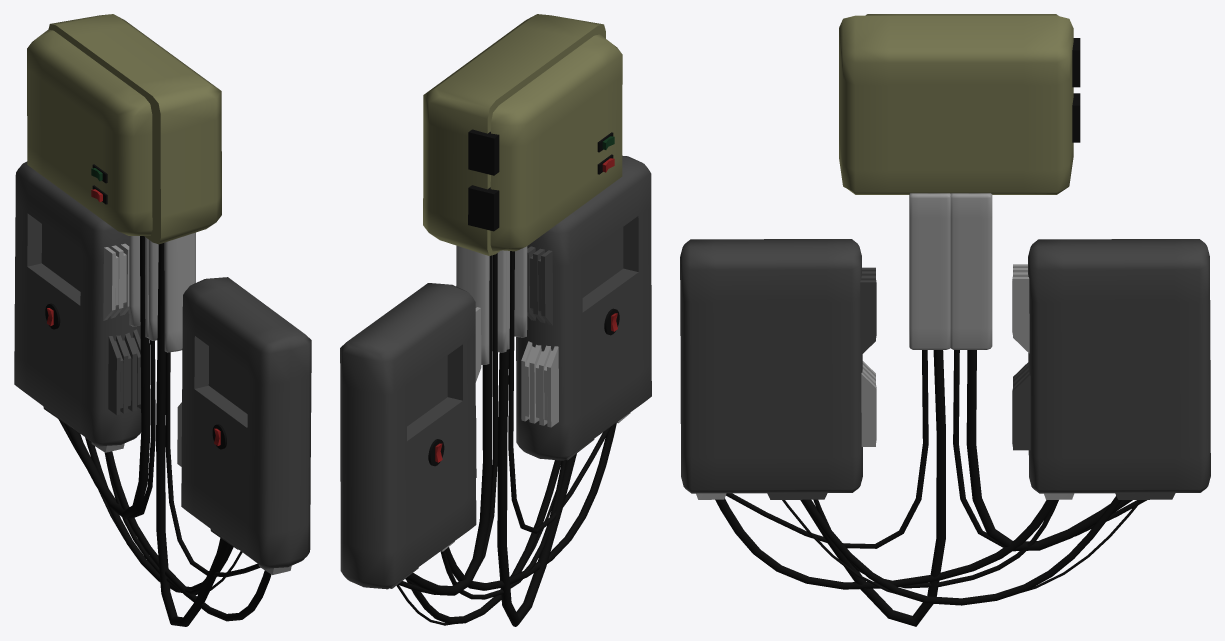
The model's file is stage 3 simulation.FBX.
3 views of the same model, side by side, from view 1: azimuth 30°, elevation 25°; view 2: azimuth 150°, elevation 25°; view 3: azimuth 270°, elevation 25° (orthographic). The views are drawn at different scales.
Visible parts, largest first — view 1: Box002; view 2: Box002; view 3: Box002.
Boxes of the visible parts, box(x1,y1,x2,y2) form: Box002: box(14, 14, 311, 626); Box002: box(340, 14, 651, 626); Box002: box(680, 14, 1210, 626).
Bounding box in the file's own units: 28.5 × 134 × 110.
